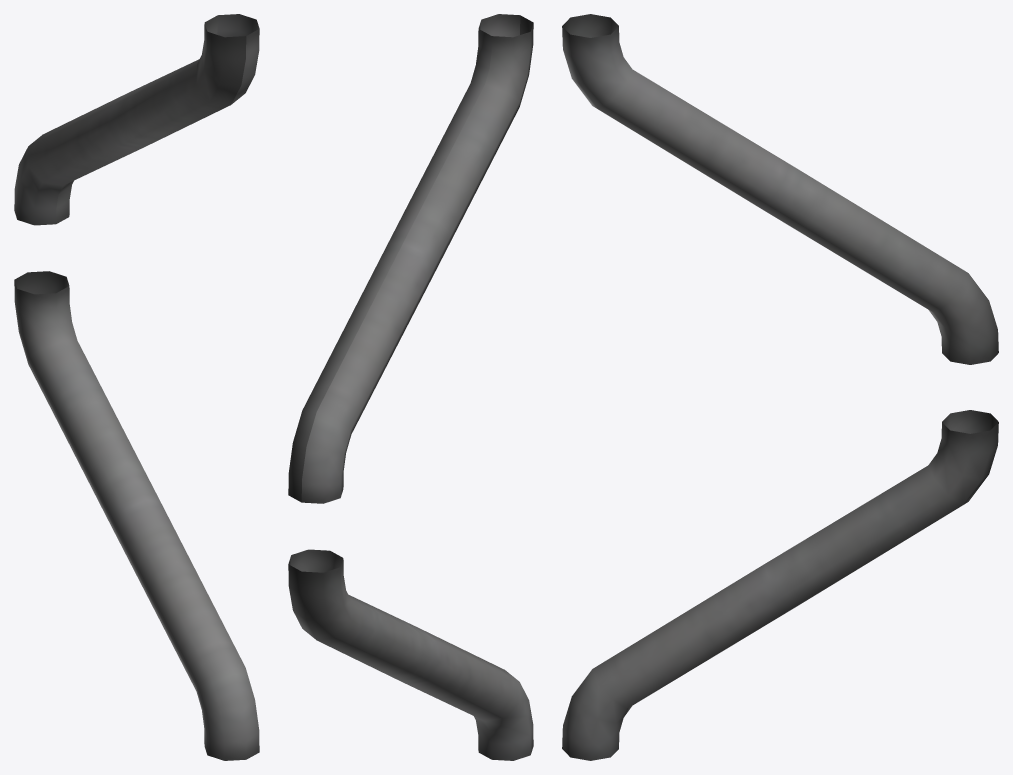
The model's file is 4mv_v_high_gain_antenna_srf_1_arm.obj.
The picture shows the model from 3 angles, left to right: view 1: azimuth 30°, elevation 25°; view 2: azimuth 150°, elevation 25°; view 3: azimuth 270°, elevation 25°; orthographic projection.
Visible parts, largest first — view 1: mesh1; view 2: mesh1; view 3: mesh1.
Boxes of the visible parts, left/top/right/bottom form: mesh1: left=14, top=14, right=259, bottom=760; mesh1: left=288, top=14, right=533, bottom=760; mesh1: left=562, top=14, right=998, bottom=760.
Bounding box in the file's own units: 0.0375 × 0.525 × 0.2875.
1 material, 1 textured.
